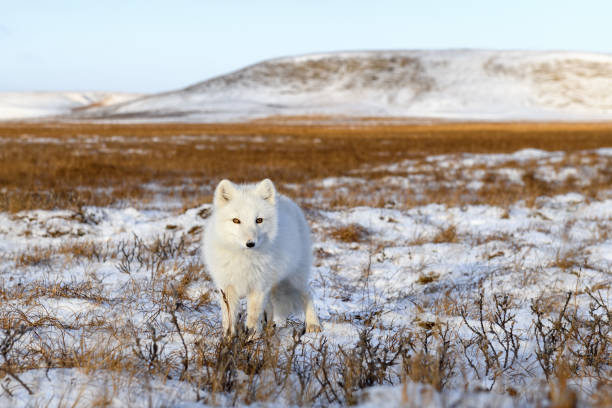arcticfox: (218, 187, 287, 264)
